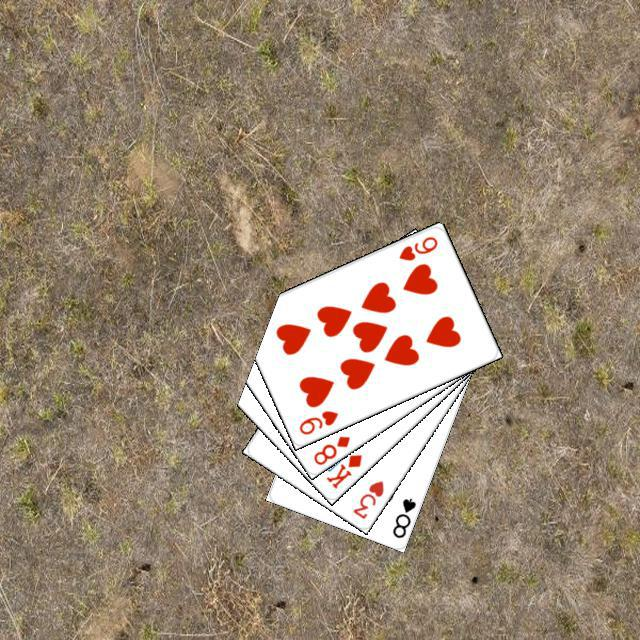3h: (348, 476, 386, 521)
8d: (308, 431, 352, 467)
8s: (387, 493, 418, 540)
9h: (394, 231, 439, 263), (294, 405, 340, 436)
Kd: (321, 449, 364, 491)
